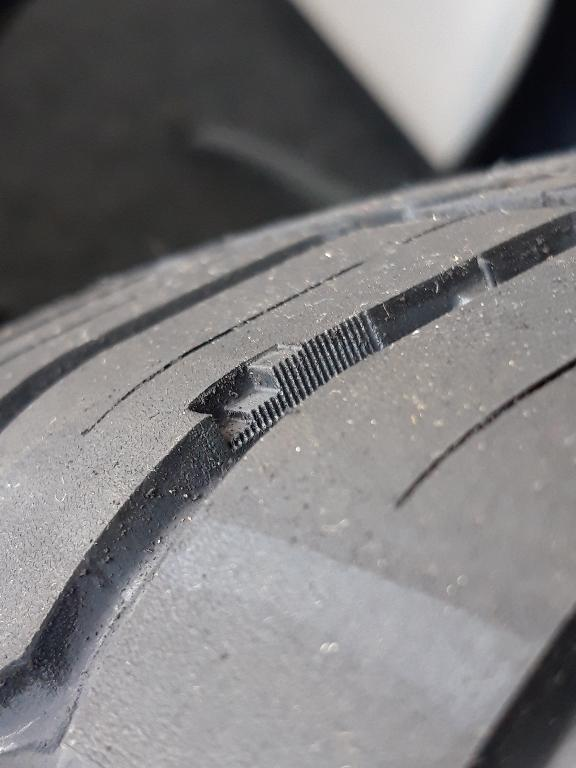temoin:50: (178, 337, 330, 464)
